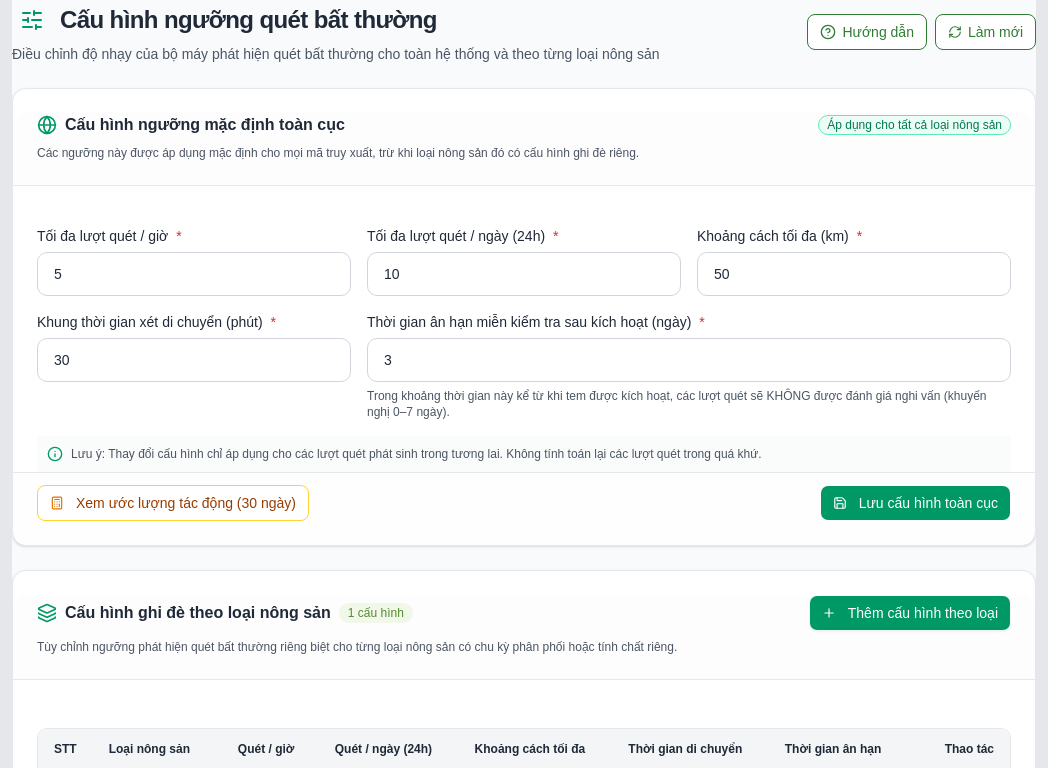
Test: AnomalyThresholdPage (NCL-08-CN-014) › kích hoạt ước lượng tác động khi bấm nút Xem ước lượng
Click the button "Xem ước lượng tác động (30 ngày)".
click(173, 503)  # box [37,485,309,521]
(page scrolled)
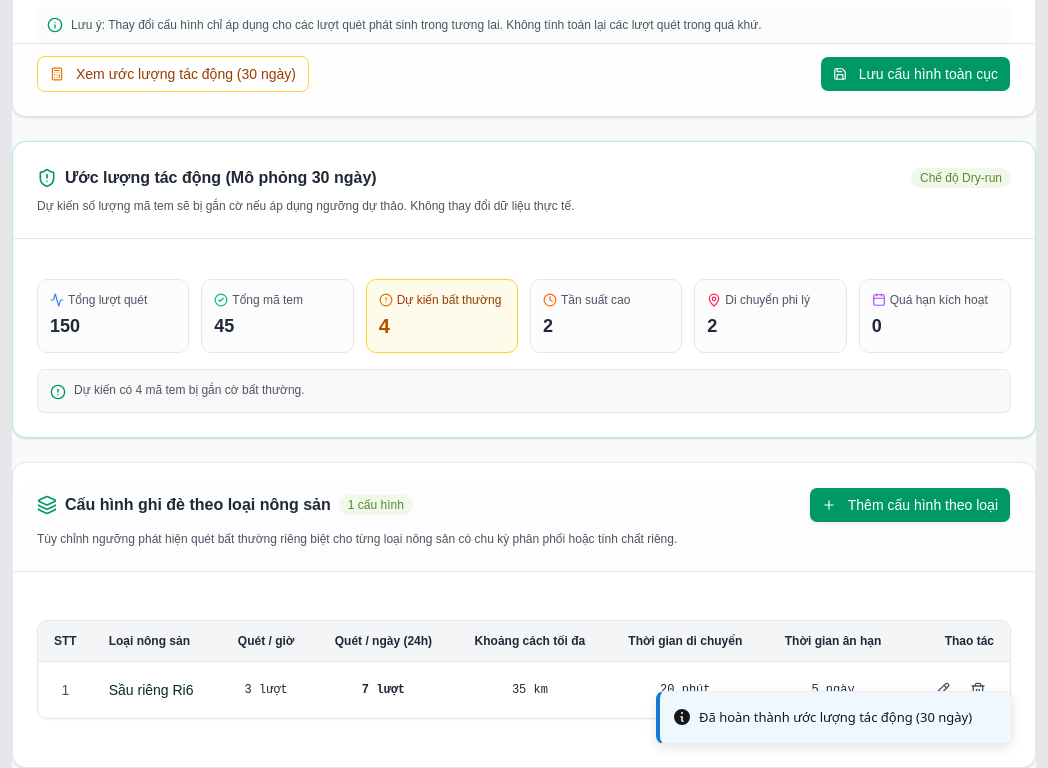
expect the text "Dự kiến có 4 mã tem bị gắn cờ bất thường." is shown: met, box [74,382,305,398]
